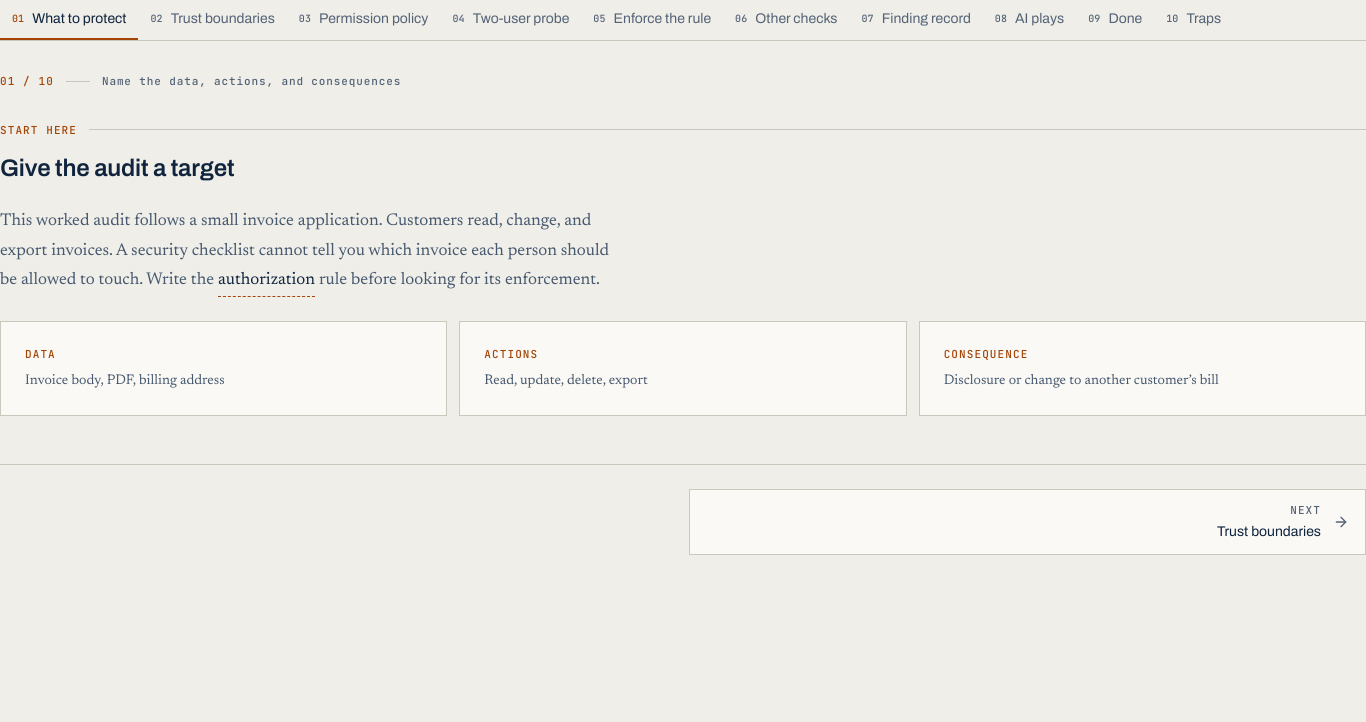
Scenario: the controls distinguish safe SQL and the finding carries a retest
Click the tab "06 Other checks": x=786, y=20 [723, 0, 850, 40]
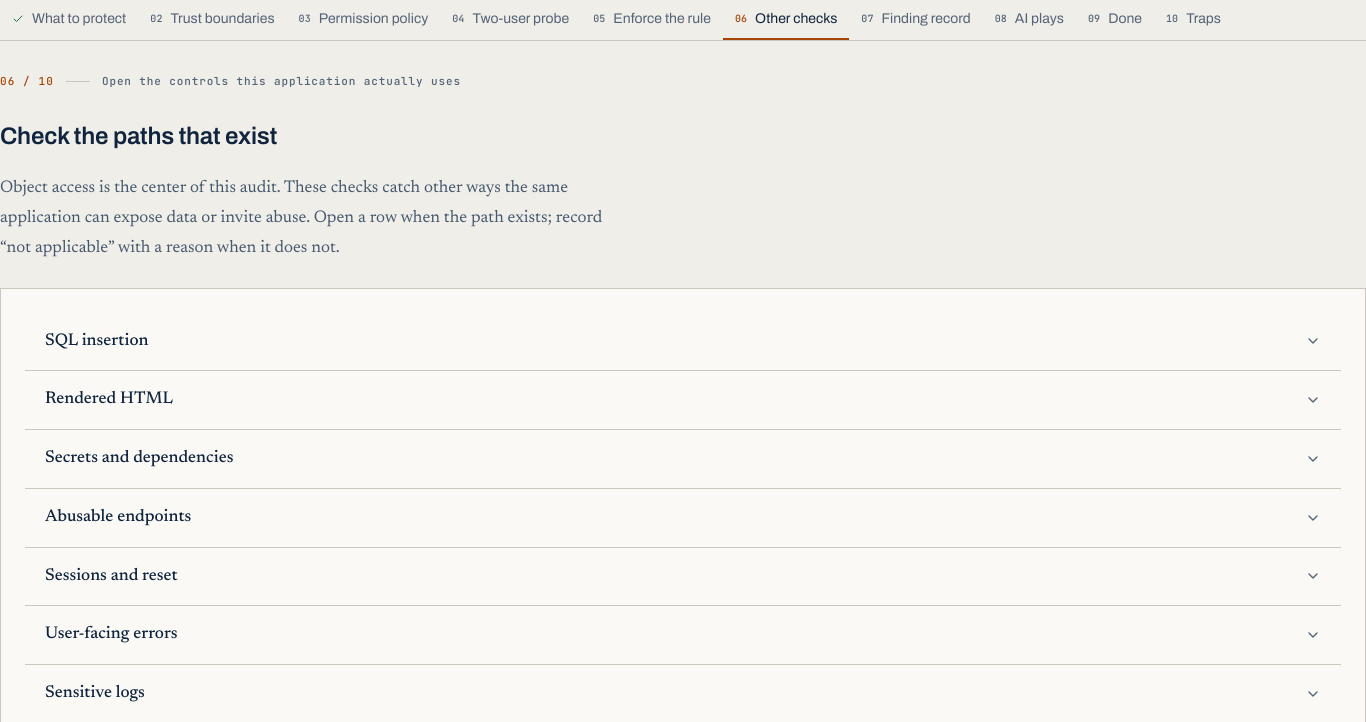
Click the button "SQL insertion": x=97, y=341 [25, 312, 1341, 370]
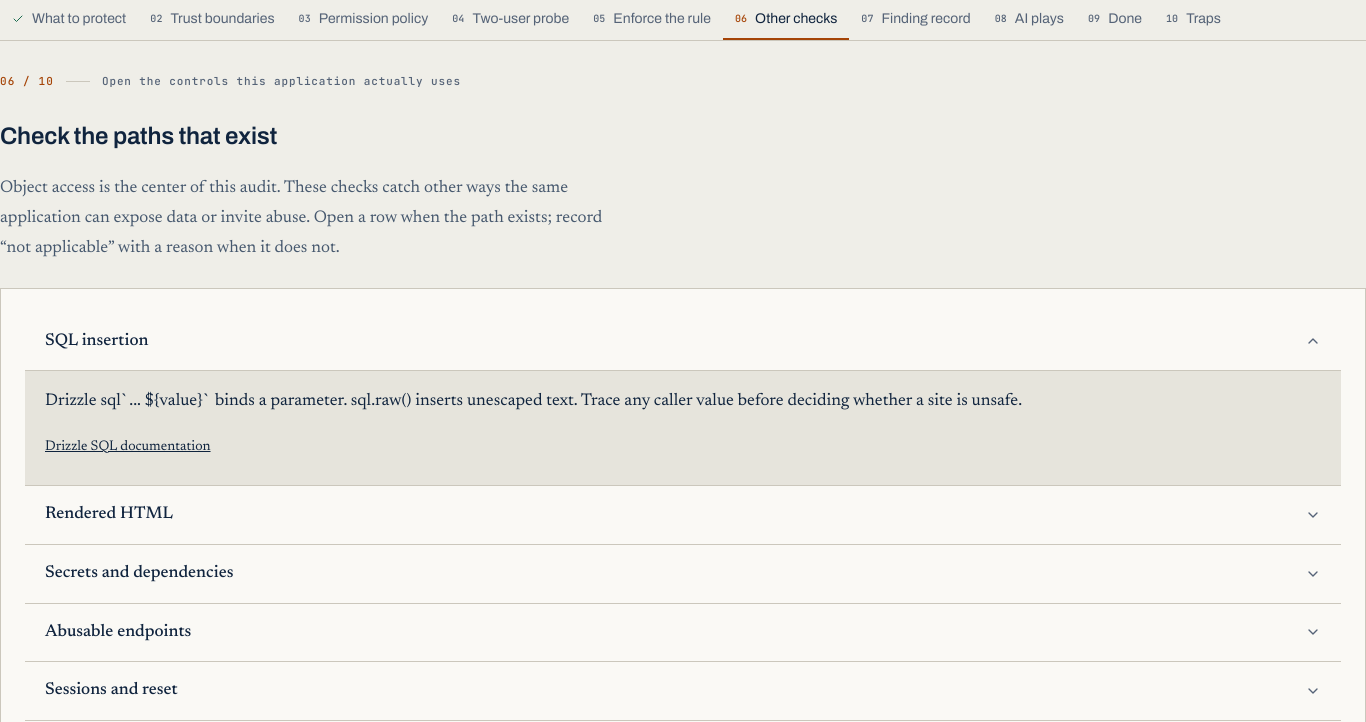
expect the panel shows "sql.raw()": met, box [45, 393, 1022, 410]
Click the tab "07 Finding record": x=916, y=20 [849, 0, 983, 40]
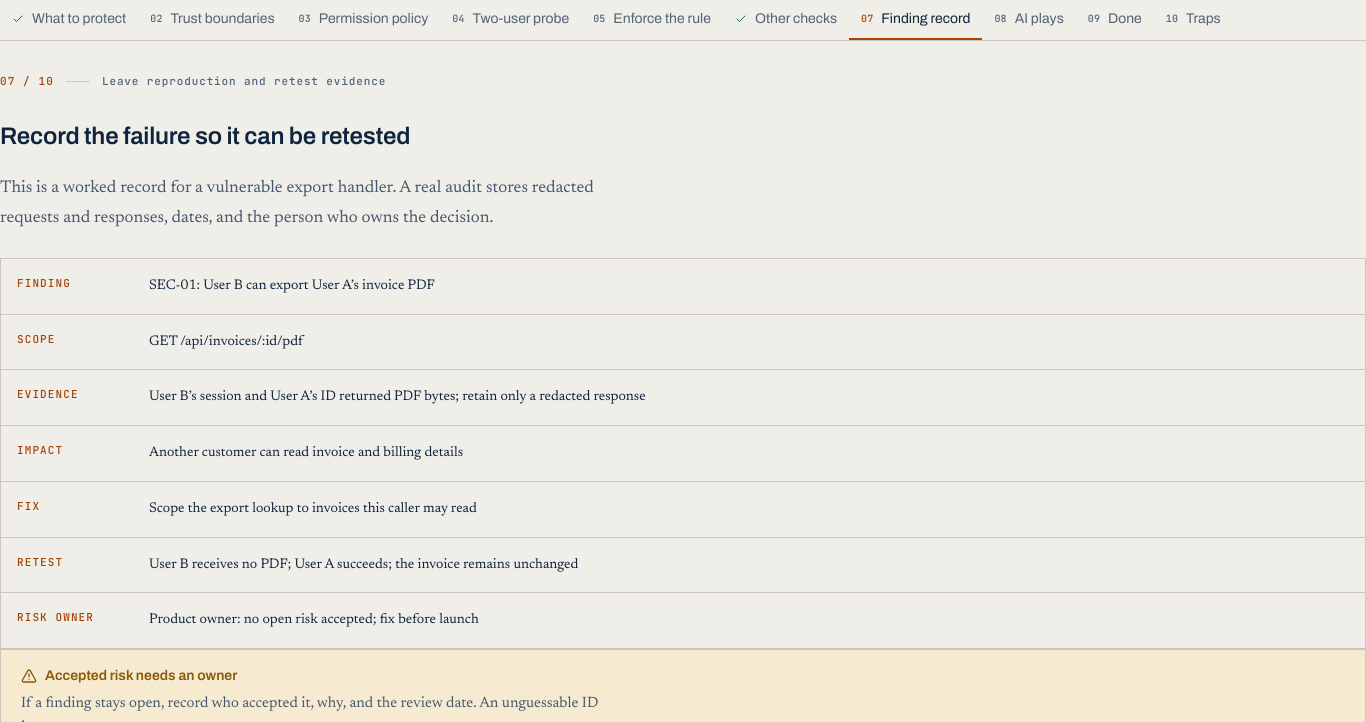
expect the panel shows "evidence": met, box [17, 387, 79, 401]
expect the panel shows "Impact": met, box [17, 443, 63, 457]
expect the panel shows "Fix": met, box [17, 499, 40, 513]
Click the tab "08 AI plays": x=1029, y=20 [982, 0, 1076, 40]
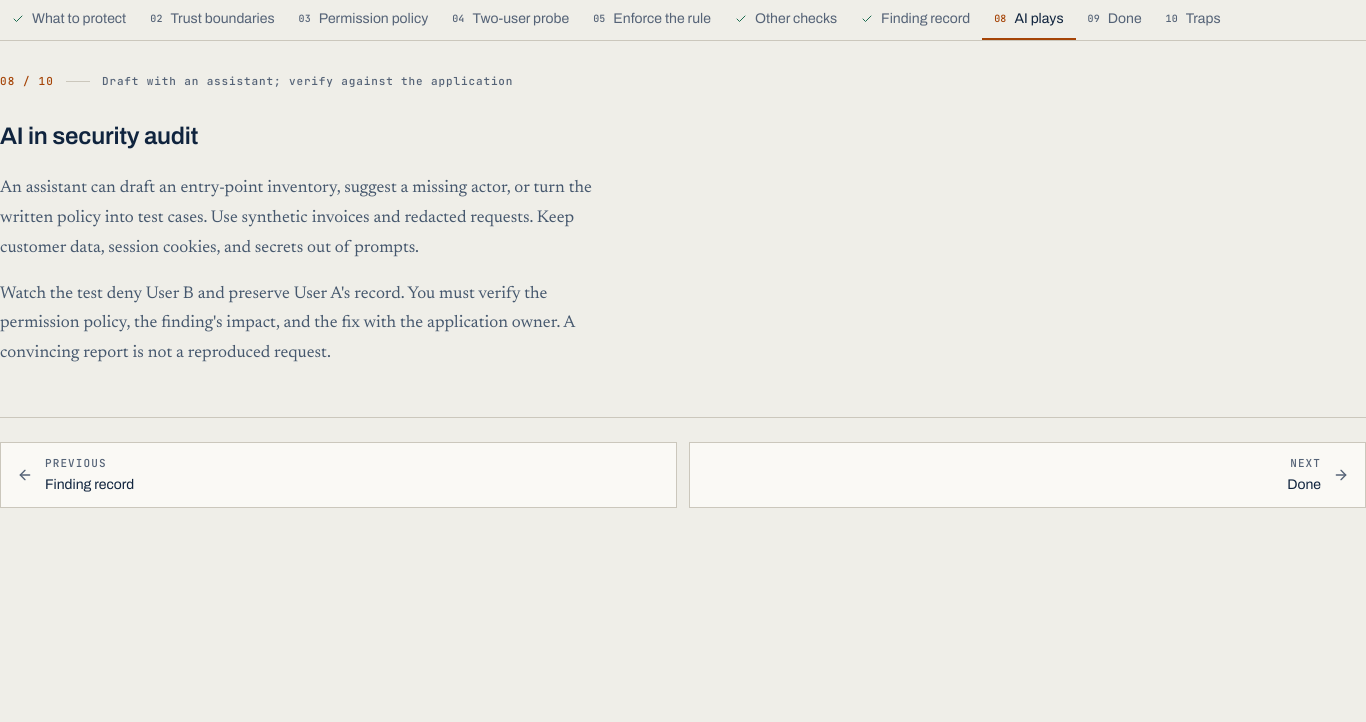
expect the panel shows "verify the permission policy": met, box [0, 286, 575, 362]
